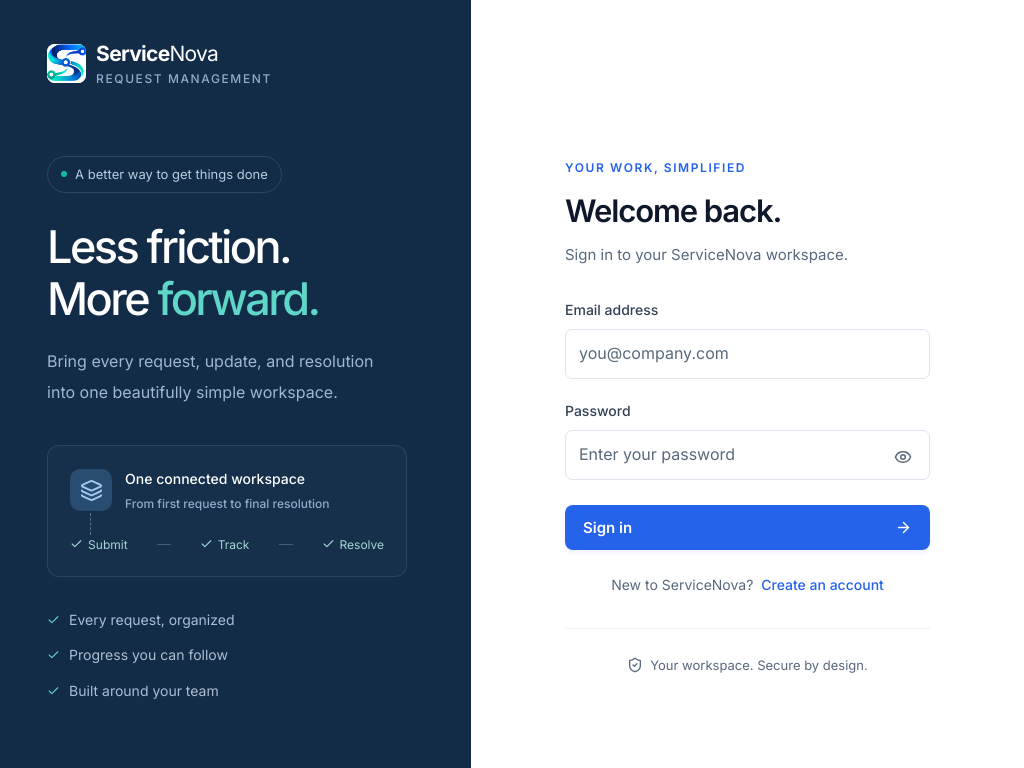
Test case: authentication forms › shows API failures and supports password visibility
The width and height of the screenshot is (1024, 768).
Type "alex@example.com" into the field labelled "Email address" at (748, 354), box [565,329,930,379]
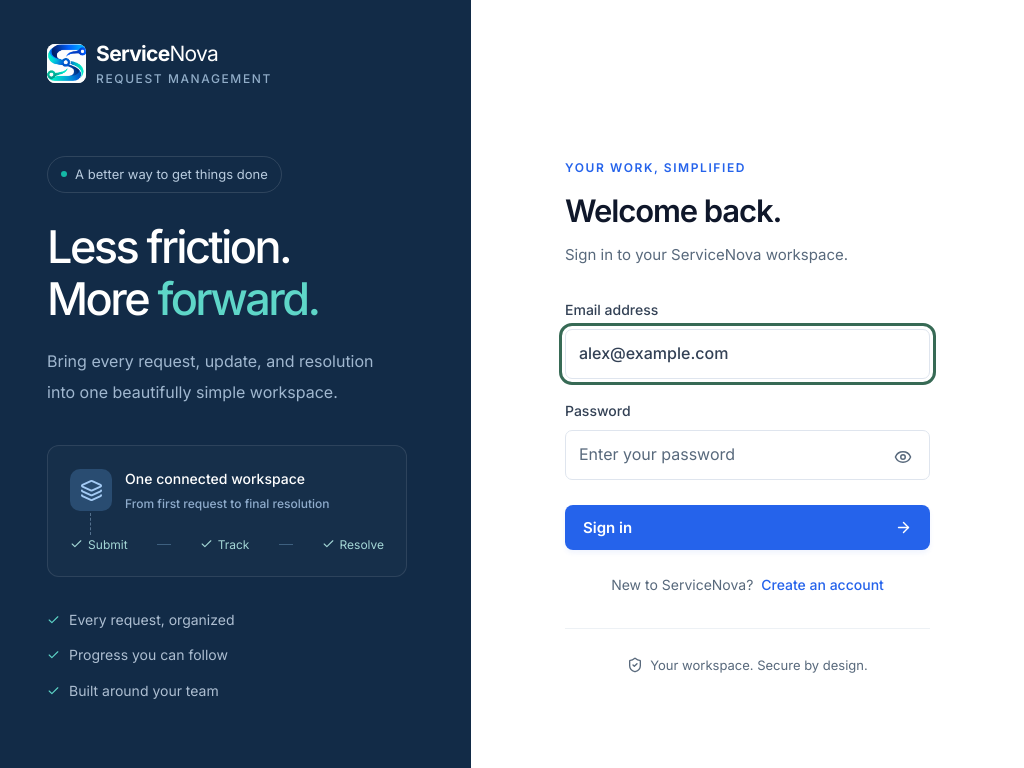
Type "test-password" into the password field labelled "Password" at (748, 455), box [565,430,930,480]
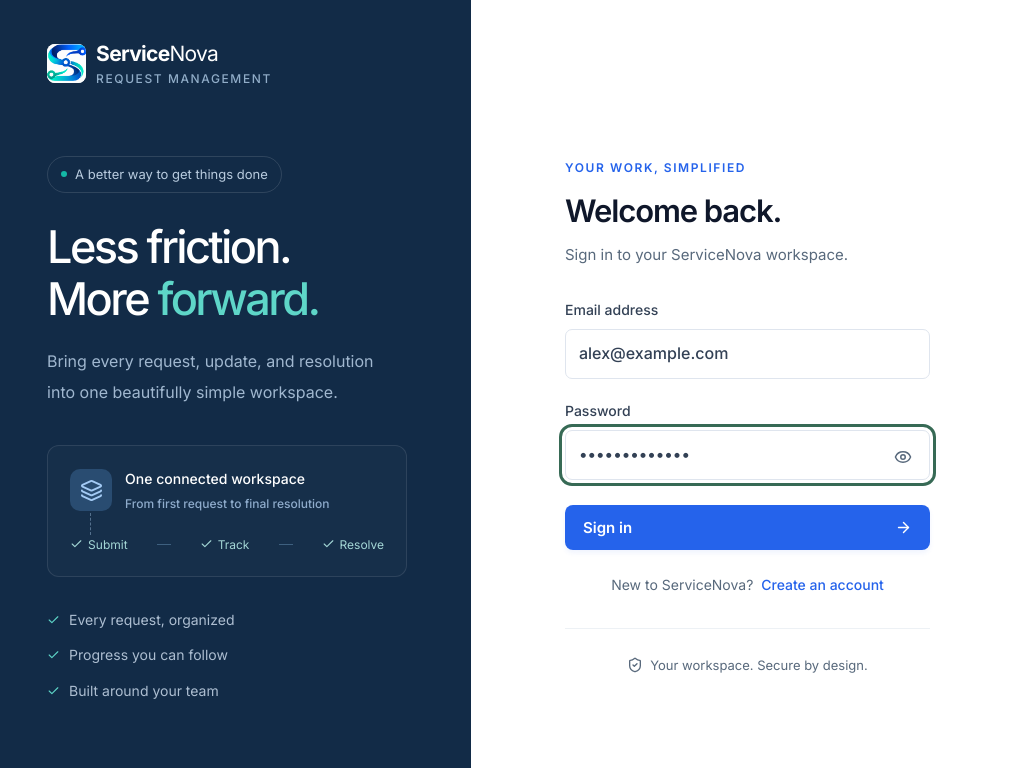
Click the button named "Show password" at (903, 457), box [881,435,925,479]
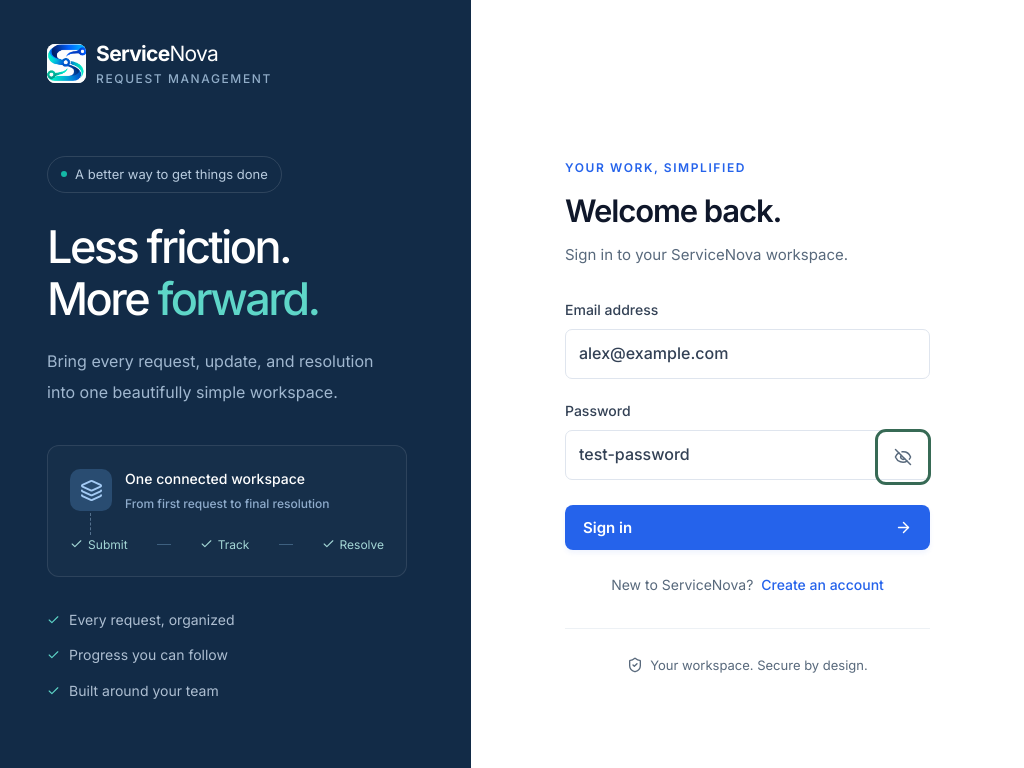
Check: the field labelled "Password" shows its text, box [565,430,930,480]
Click the button "Sign in" at (608, 527), box [565,505,930,550]
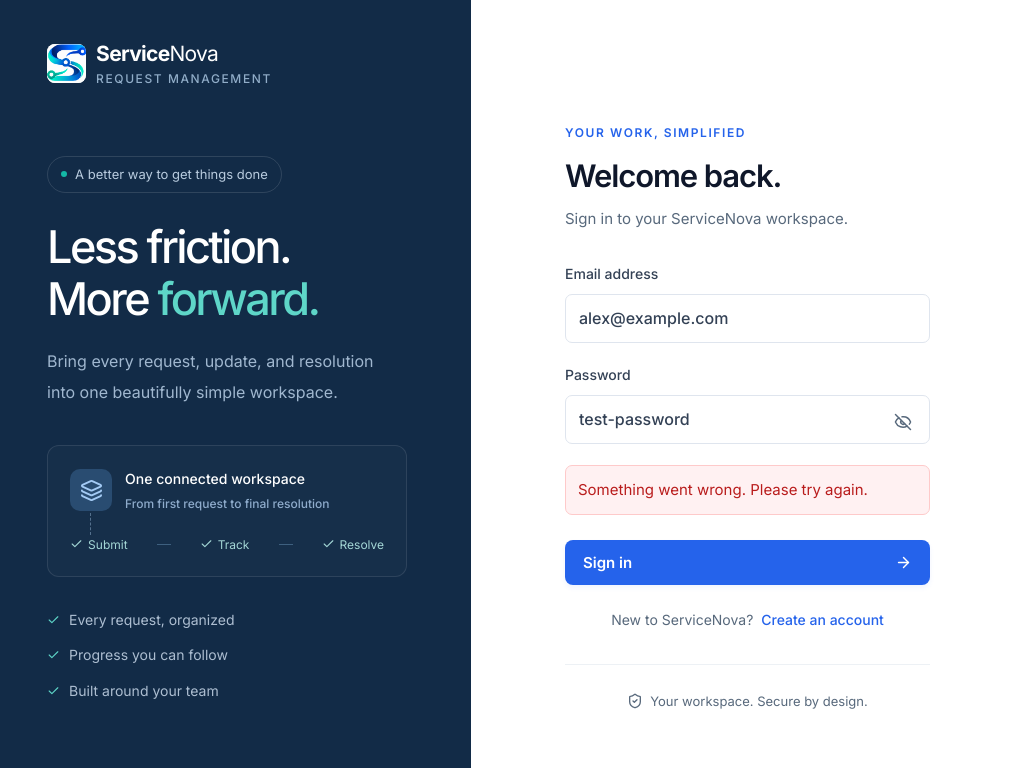
Check: the message reads "Something went wrong. Please try again.", box [578,480,868,499]
